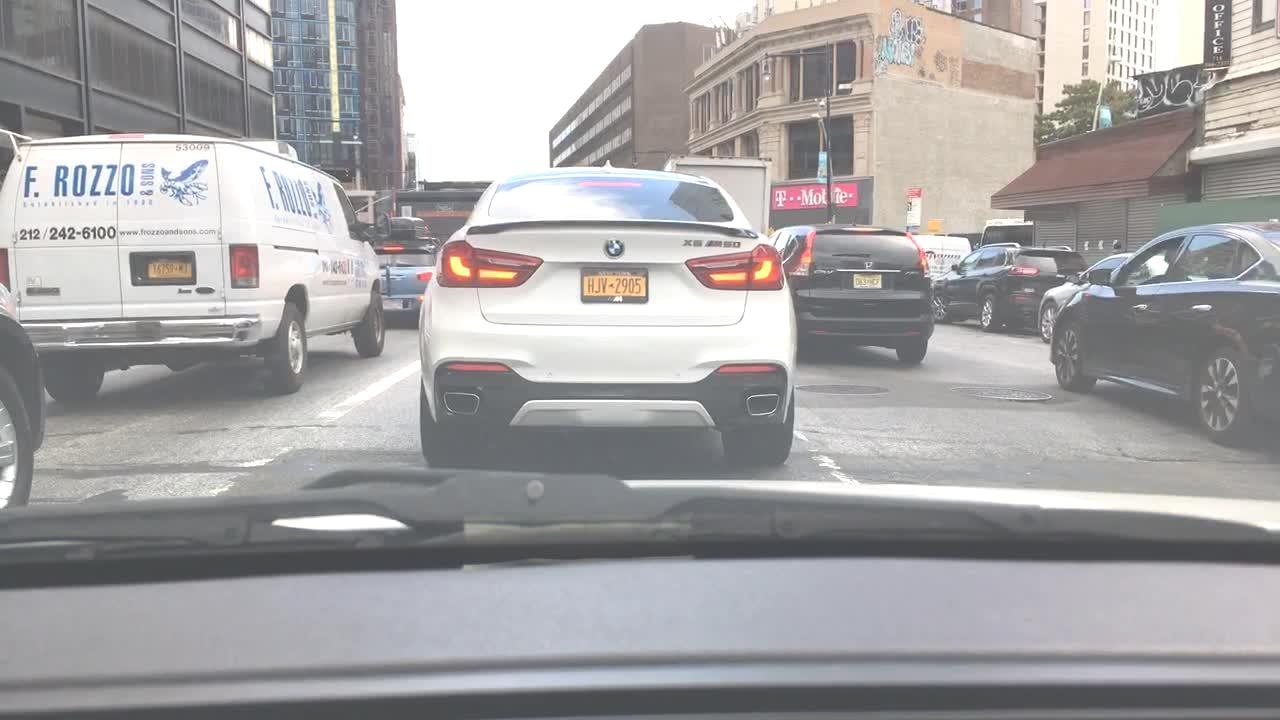Honda: (861, 258, 877, 270)
bmw: (601, 236, 627, 259)
